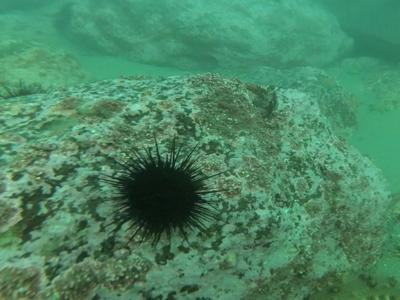holothurian: (301, 270, 394, 298)
urchin: (97, 130, 224, 252)
